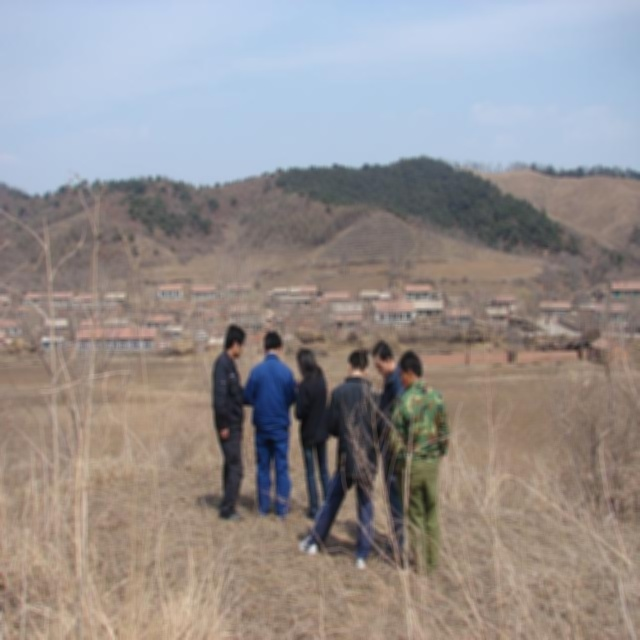Sin_Casco_Mascarrilla: (398, 348, 423, 386), (222, 325, 246, 358), (261, 332, 282, 360), (347, 352, 368, 379)
